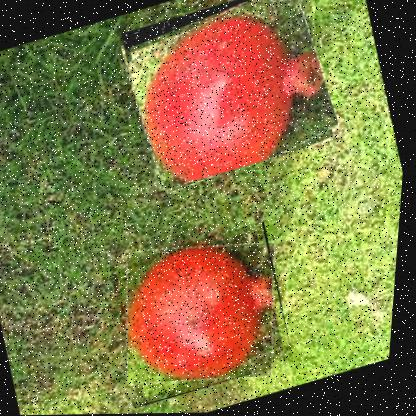pomegranate: (111, 0, 349, 194), (104, 218, 308, 407)
